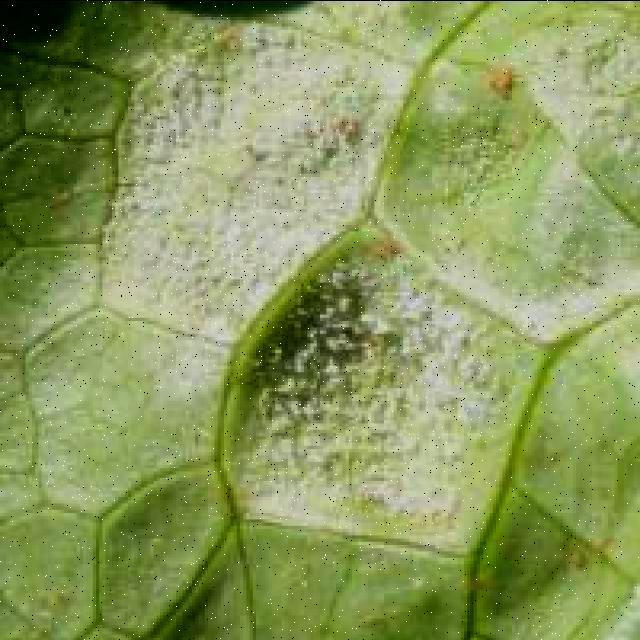Bad: (2, 3, 639, 639)
